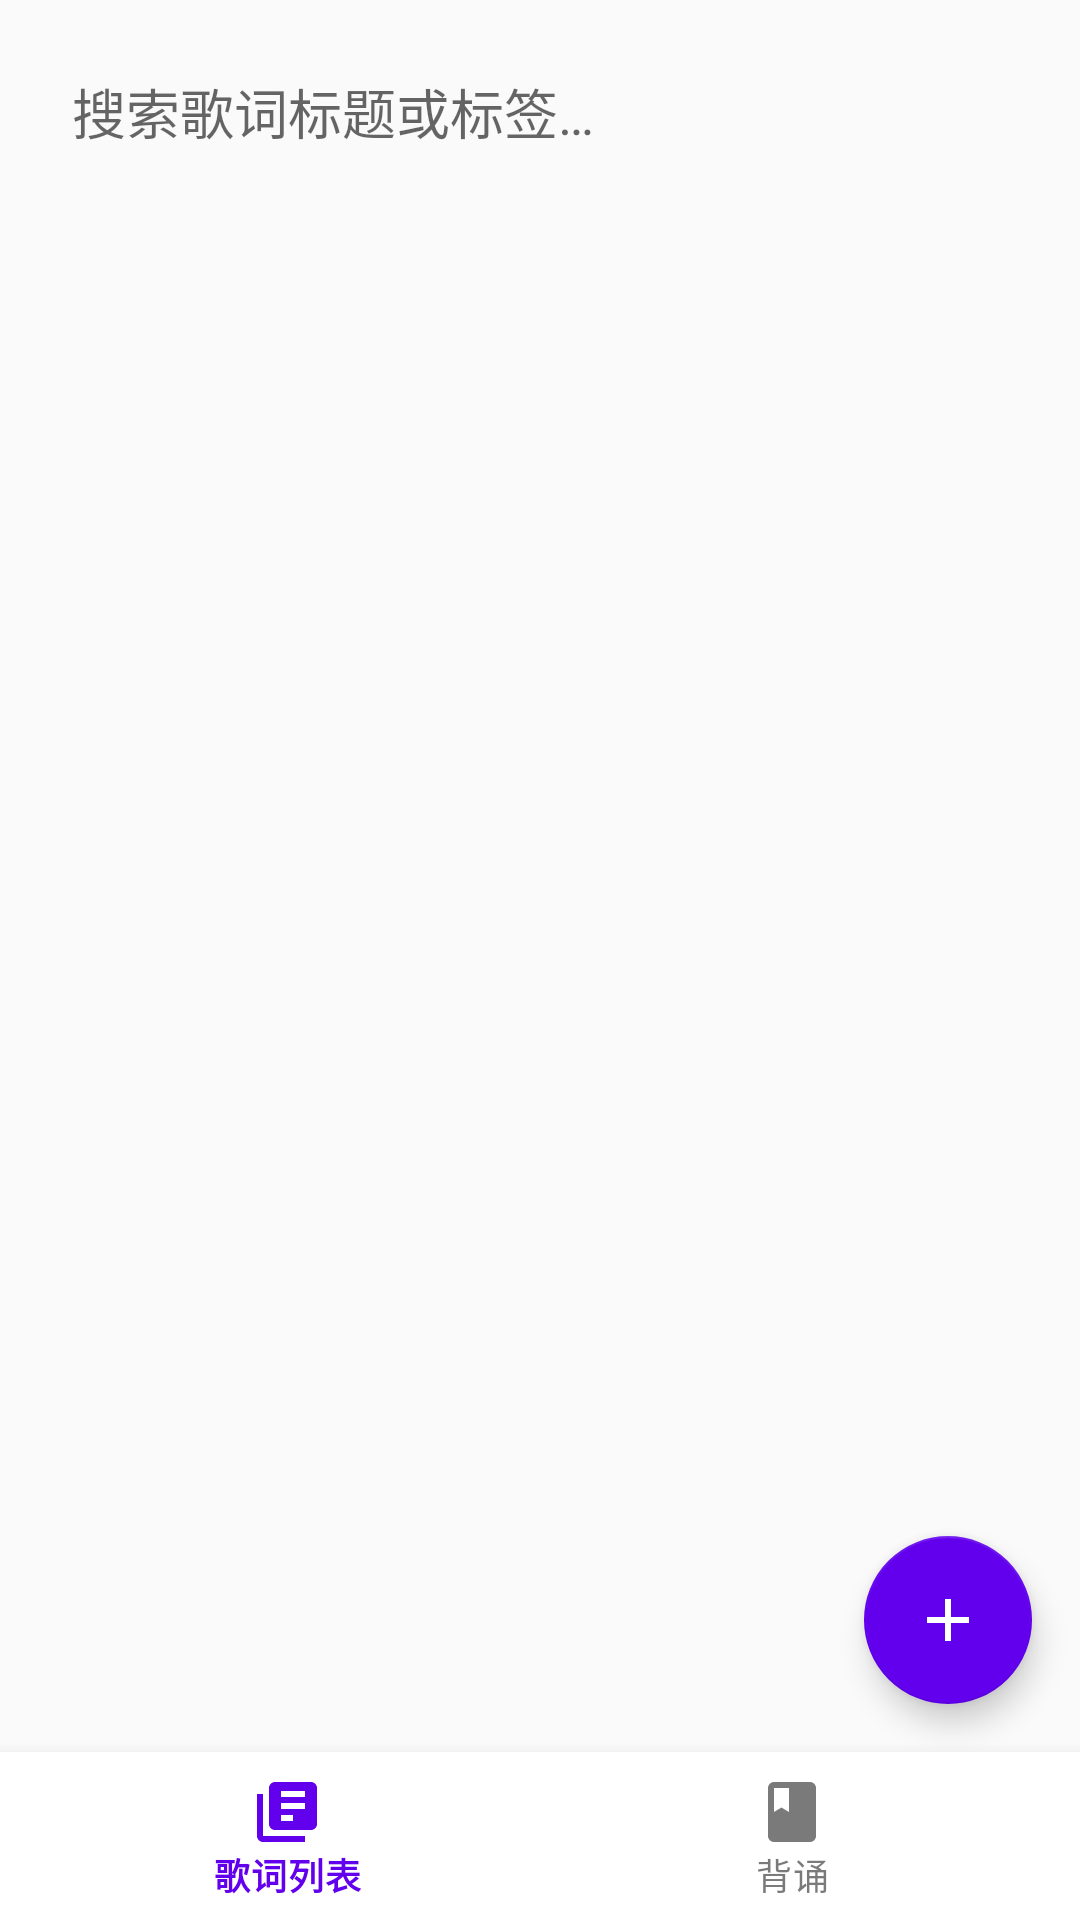

Point at icon controls on the screen. Image size 1080 x 1920, points as [x,y].
新建歌词: [948,1620]
